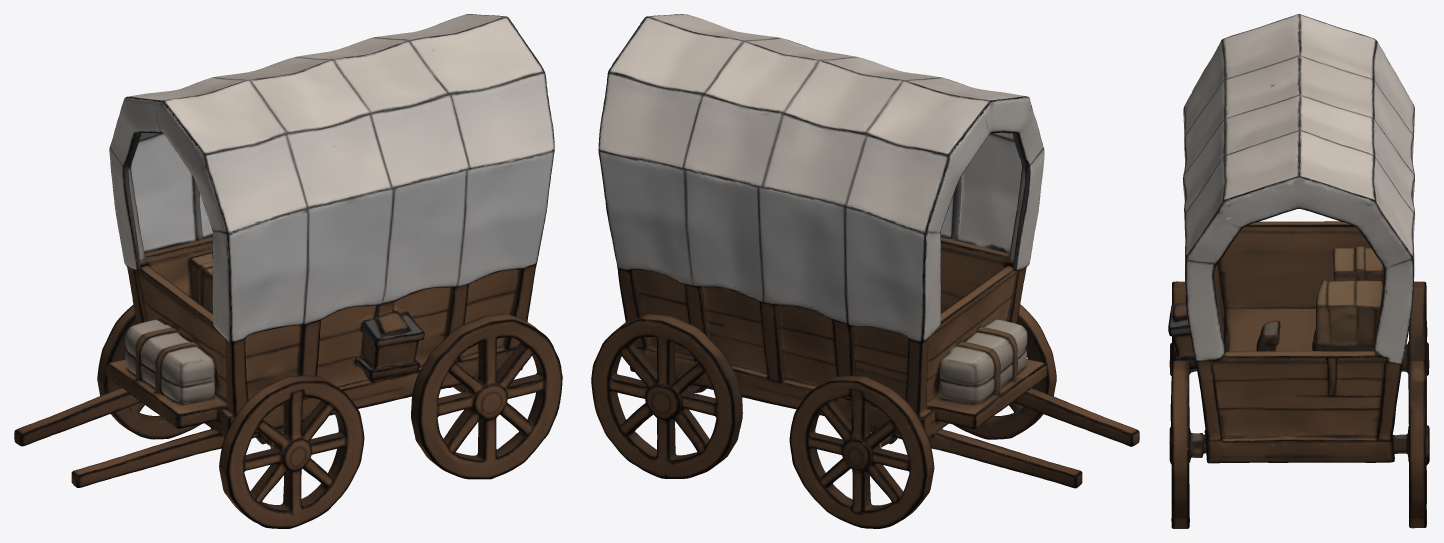
The model's file is settler.glb.
The picture shows the model from 3 angles, left to right: view 1: azimuth 30°, elevation 25°; view 2: azimuth 150°, elevation 25°; view 3: azimuth 270°, elevation 25°; orthographic projection. The views are drawn at different scales.
Parts seen in each view (by area): view 1: world; view 2: world; view 3: world.
Part boxes in pixels (x1,y1,x2,y2): world: [14, 14, 562, 528]; world: [591, 14, 1139, 528]; world: [1168, 14, 1429, 528].
Bounding box in the file's own units: 1 × 0.8169 × 0.5038.
Materials: 1 (1 with a texture image).
